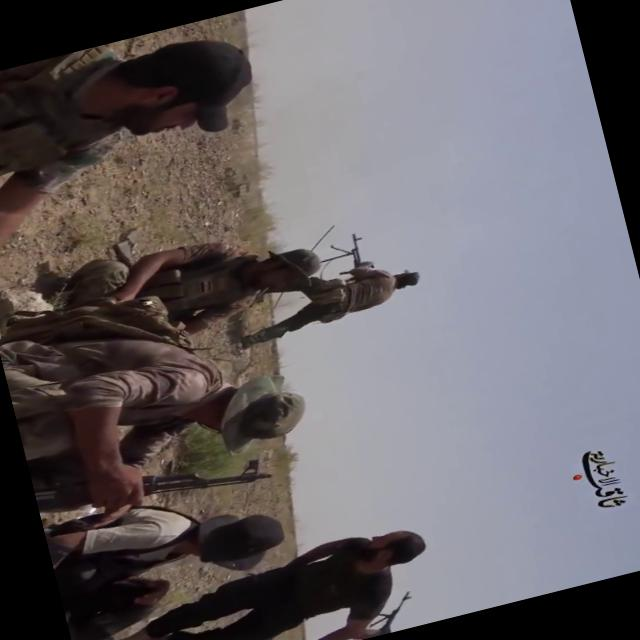long weapon: (32, 425, 279, 548), (324, 226, 388, 286)
